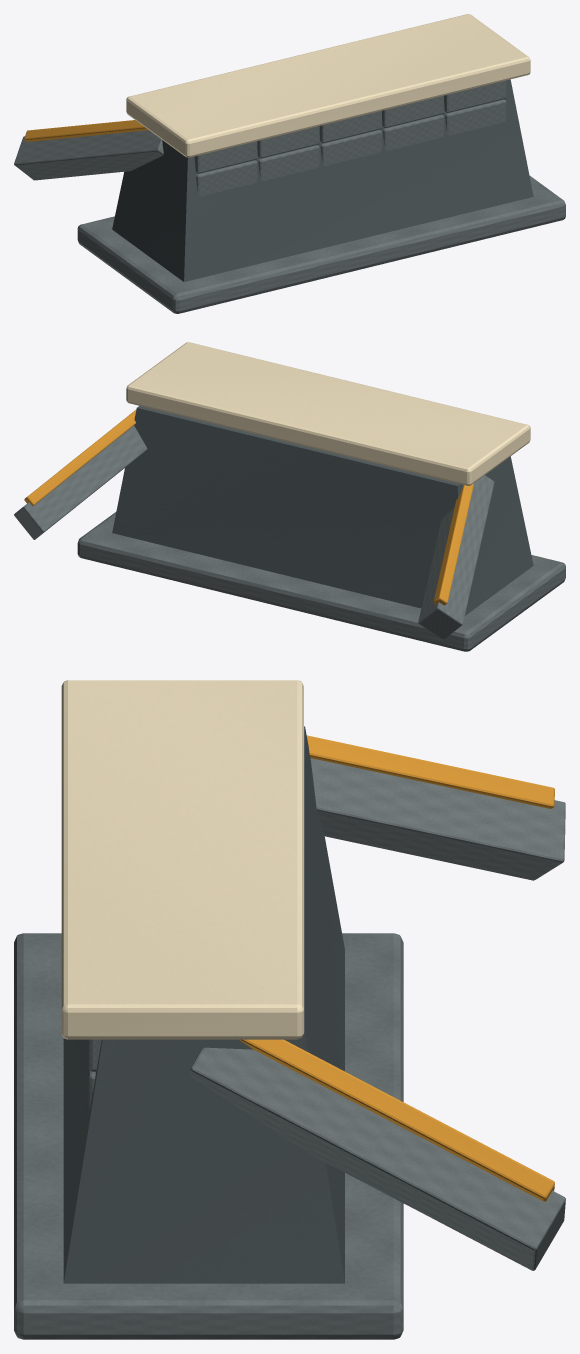
The model's file is Building_Bridge_Abutment_001.glb.
3 renders of one model, top to bottom at view 1: azimuth 30°, elevation 25°; view 2: azimuth 150°, elevation 25°; view 3: azimuth 270°, elevation 25°, orthographic. The views are drawn at different scales.
Parts seen in each view (by area): view 1: Abutment_Body; view 2: Abutment_Body; view 3: Abutment_Body.
Part boxes in pixels (x1,y1,x2,y2): Abutment_Body: (14,14,565,313); Abutment_Body: (14,342,565,651); Abutment_Body: (14,680,565,1339).
Size of the model in its own units: 4.68 by 1.6 by 2.55.
Materials: 1 (1 with a texture image).
